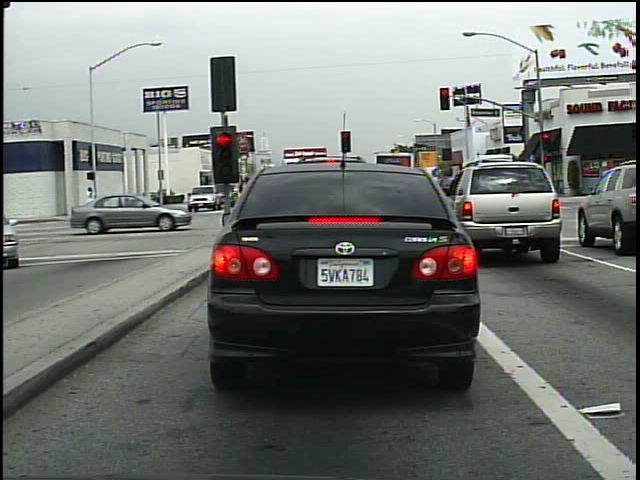person: (82, 187, 103, 219)
